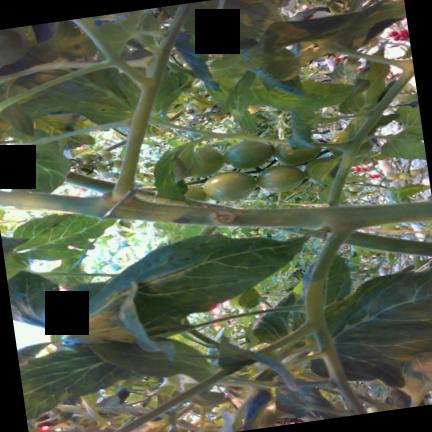6kp_petiole: (263, 200, 423, 302), (44, 120, 201, 222)
MainStem: (0, 189, 431, 226), (343, 230, 432, 255)
tomato: (202, 171, 255, 200), (223, 140, 272, 168), (255, 164, 303, 191), (0, 27, 28, 65), (189, 146, 223, 177), (273, 143, 319, 164), (206, 112, 225, 124), (185, 102, 203, 114), (75, 153, 93, 164), (97, 149, 111, 159), (247, 103, 259, 113), (94, 163, 107, 171), (111, 159, 122, 168), (385, 172, 398, 179), (409, 168, 421, 175), (398, 171, 410, 178), (348, 184, 359, 190), (346, 192, 356, 198), (418, 166, 427, 172), (344, 189, 351, 196), (405, 175, 415, 178), (356, 186, 362, 190)
